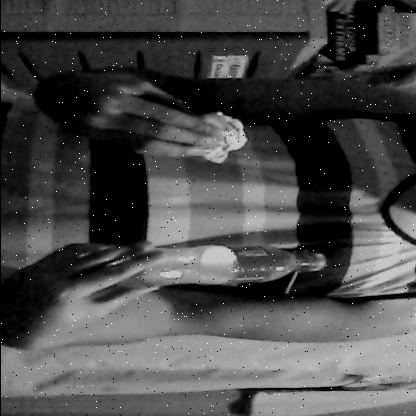Plastic Bottle: (100, 239, 331, 296)
